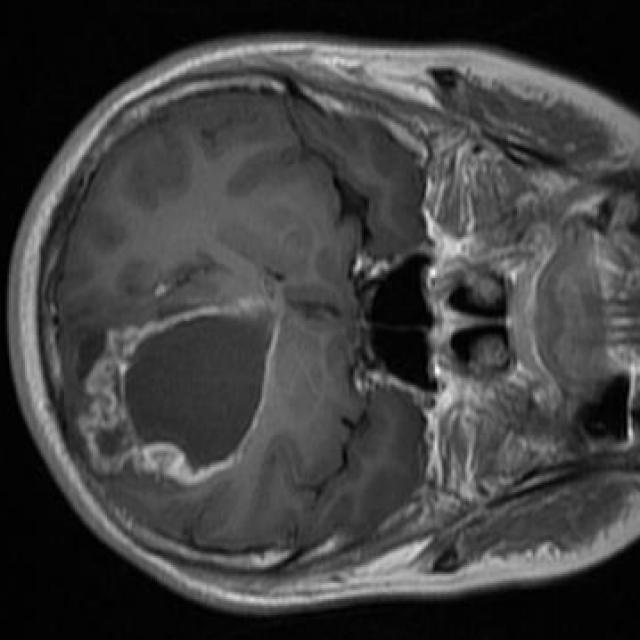glioma: (84, 298, 282, 483)
